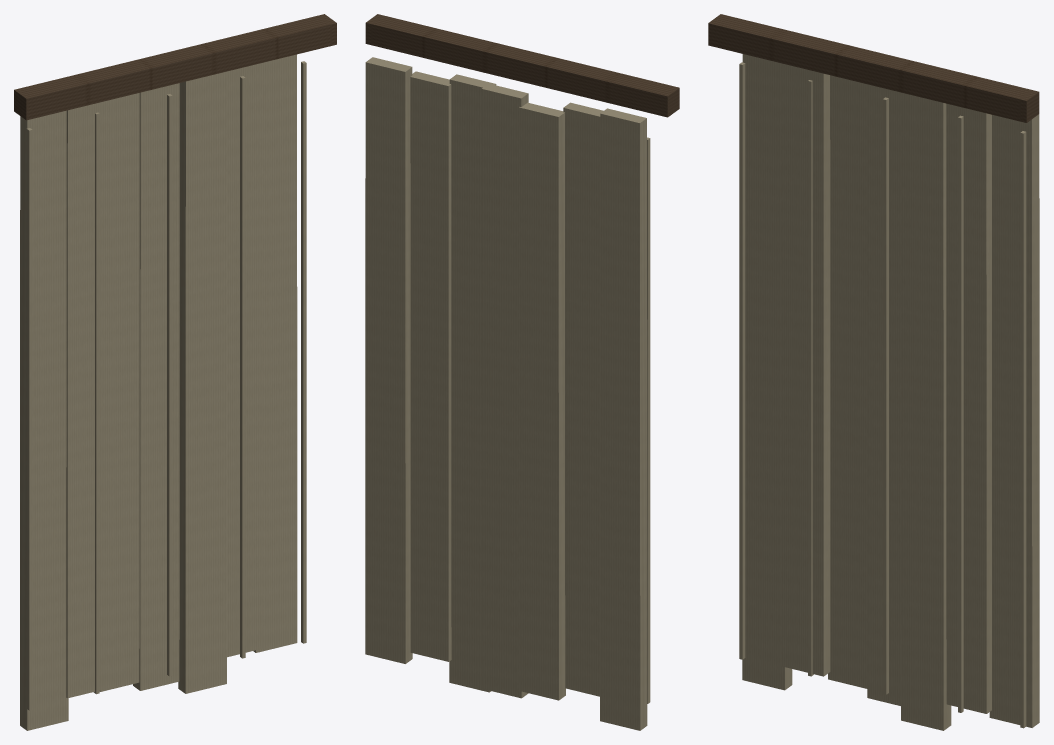
The model's file is part_curtain.glb.
3 renders of one model, left to right at view 1: azimuth 30°, elevation 25°; view 2: azimuth 150°, elevation 25°; view 3: azimuth 330°, elevation 25°, orthographic. The views are drawn at different scales.
Parts seen in each view (by area): view 1: curtain; view 2: curtain; view 3: curtain.
Part boxes in pixels (left/top/right/bottom): curtain: left=14, top=14, right=336, bottom=730; curtain: left=365, top=14, right=679, bottom=730; curtain: left=708, top=14, right=1039, bottom=730.
Size of the model in its own units: 1.02 by 2.03 by 0.1699.
2 materials, 2 textured.
